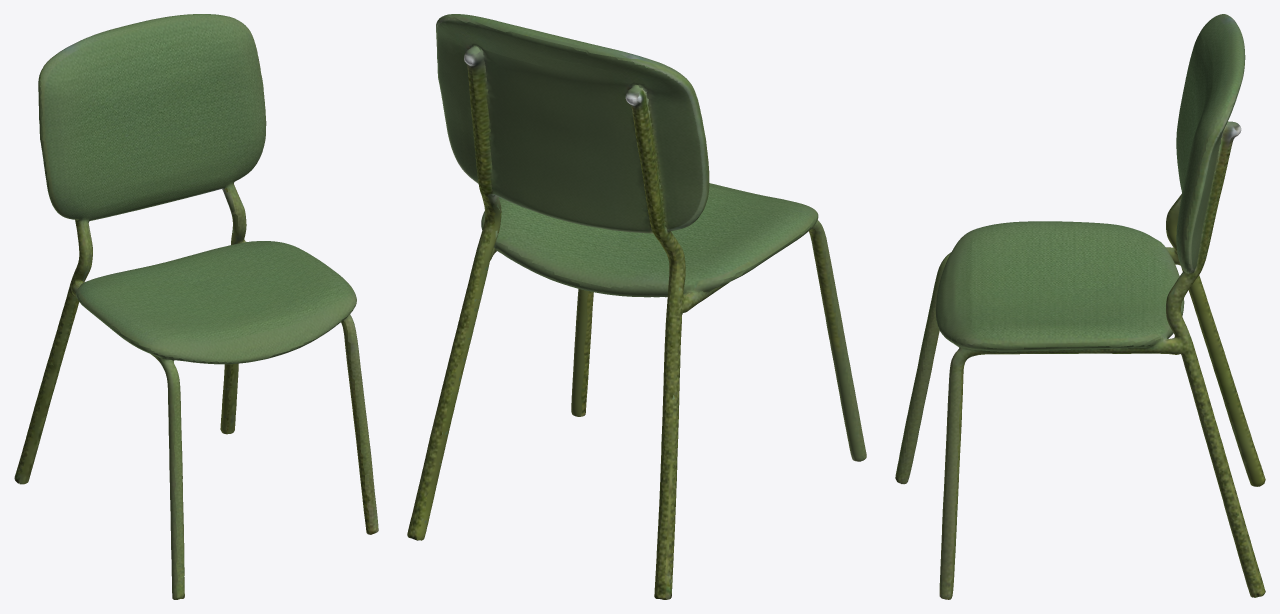
Rendered from chair__chair#5.glb.
The picture shows the model from 3 angles, left to right: view 1: azimuth 30°, elevation 25°; view 2: azimuth 150°, elevation 25°; view 3: azimuth 270°, elevation 25°; orthographic projection. The views are drawn at different scales.
Parts seen in each view (by area): view 1: tmpy60g6o40.ply; view 2: tmpy60g6o40.ply; view 3: tmpy60g6o40.ply.
Boxes of the visible parts, <box> form: tmpy60g6o40.ply: <box>14,14,378,599</box>; tmpy60g6o40.ply: <box>407,14,866,599</box>; tmpy60g6o40.ply: <box>895,14,1265,599</box>.
Size of the model in its own units: 1.07 by 1.99 by 1.37.
Materials: 1 (1 with a texture image).
